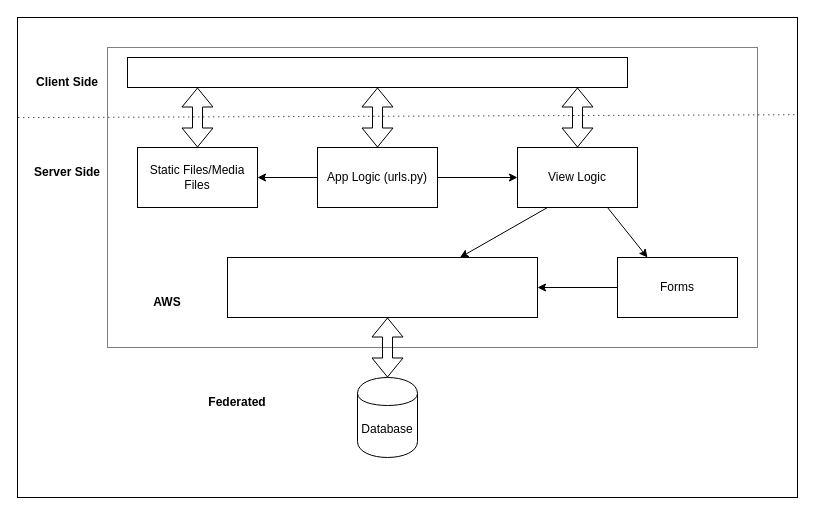
This 816x515 diagram has some shape labels left out. The shapes that lost their labels are listed below. From the top down, each one's centre as x and y in pixels, then its label:
At pixel 377 72: "Templates".
At pixel 382 287: "Models".
